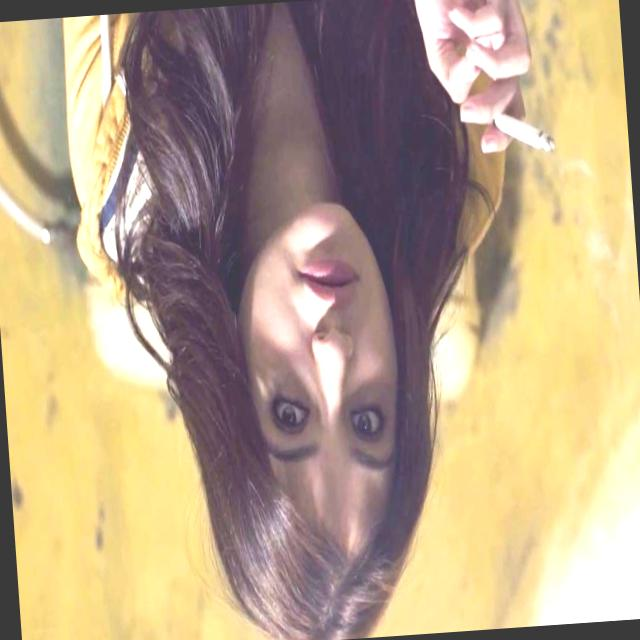cigarette: (472, 92, 564, 185)
